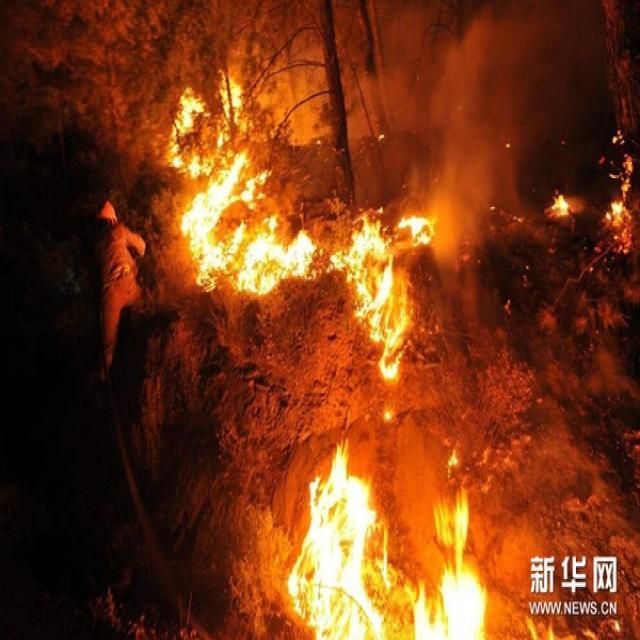Fire: (163, 72, 435, 382), (284, 433, 488, 640), (600, 128, 634, 254), (521, 612, 555, 640), (548, 191, 571, 216)
Smoke: (355, 2, 560, 270)
